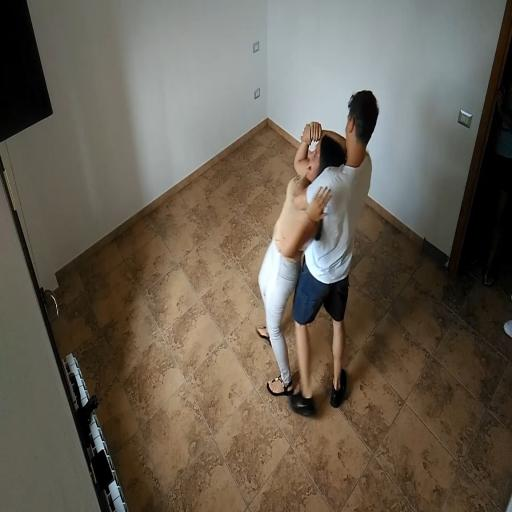violencia: (251, 55, 384, 432)
